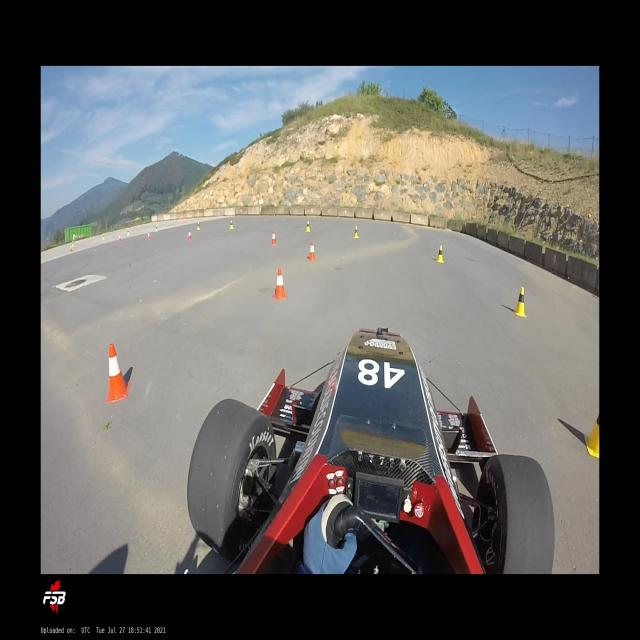orange_cone: (106, 343, 130, 403), (274, 268, 287, 299), (308, 242, 316, 261), (272, 232, 276, 244), (188, 230, 192, 240), (118, 234, 121, 240), (148, 231, 150, 240), (70, 245, 72, 251)
yellow_cone: (584, 413, 600, 458), (514, 286, 527, 318), (437, 245, 444, 262), (354, 225, 359, 239), (306, 220, 310, 232), (230, 220, 234, 228), (197, 221, 200, 230), (156, 224, 158, 232), (127, 229, 129, 236), (72, 241, 74, 247), (103, 234, 104, 240)
